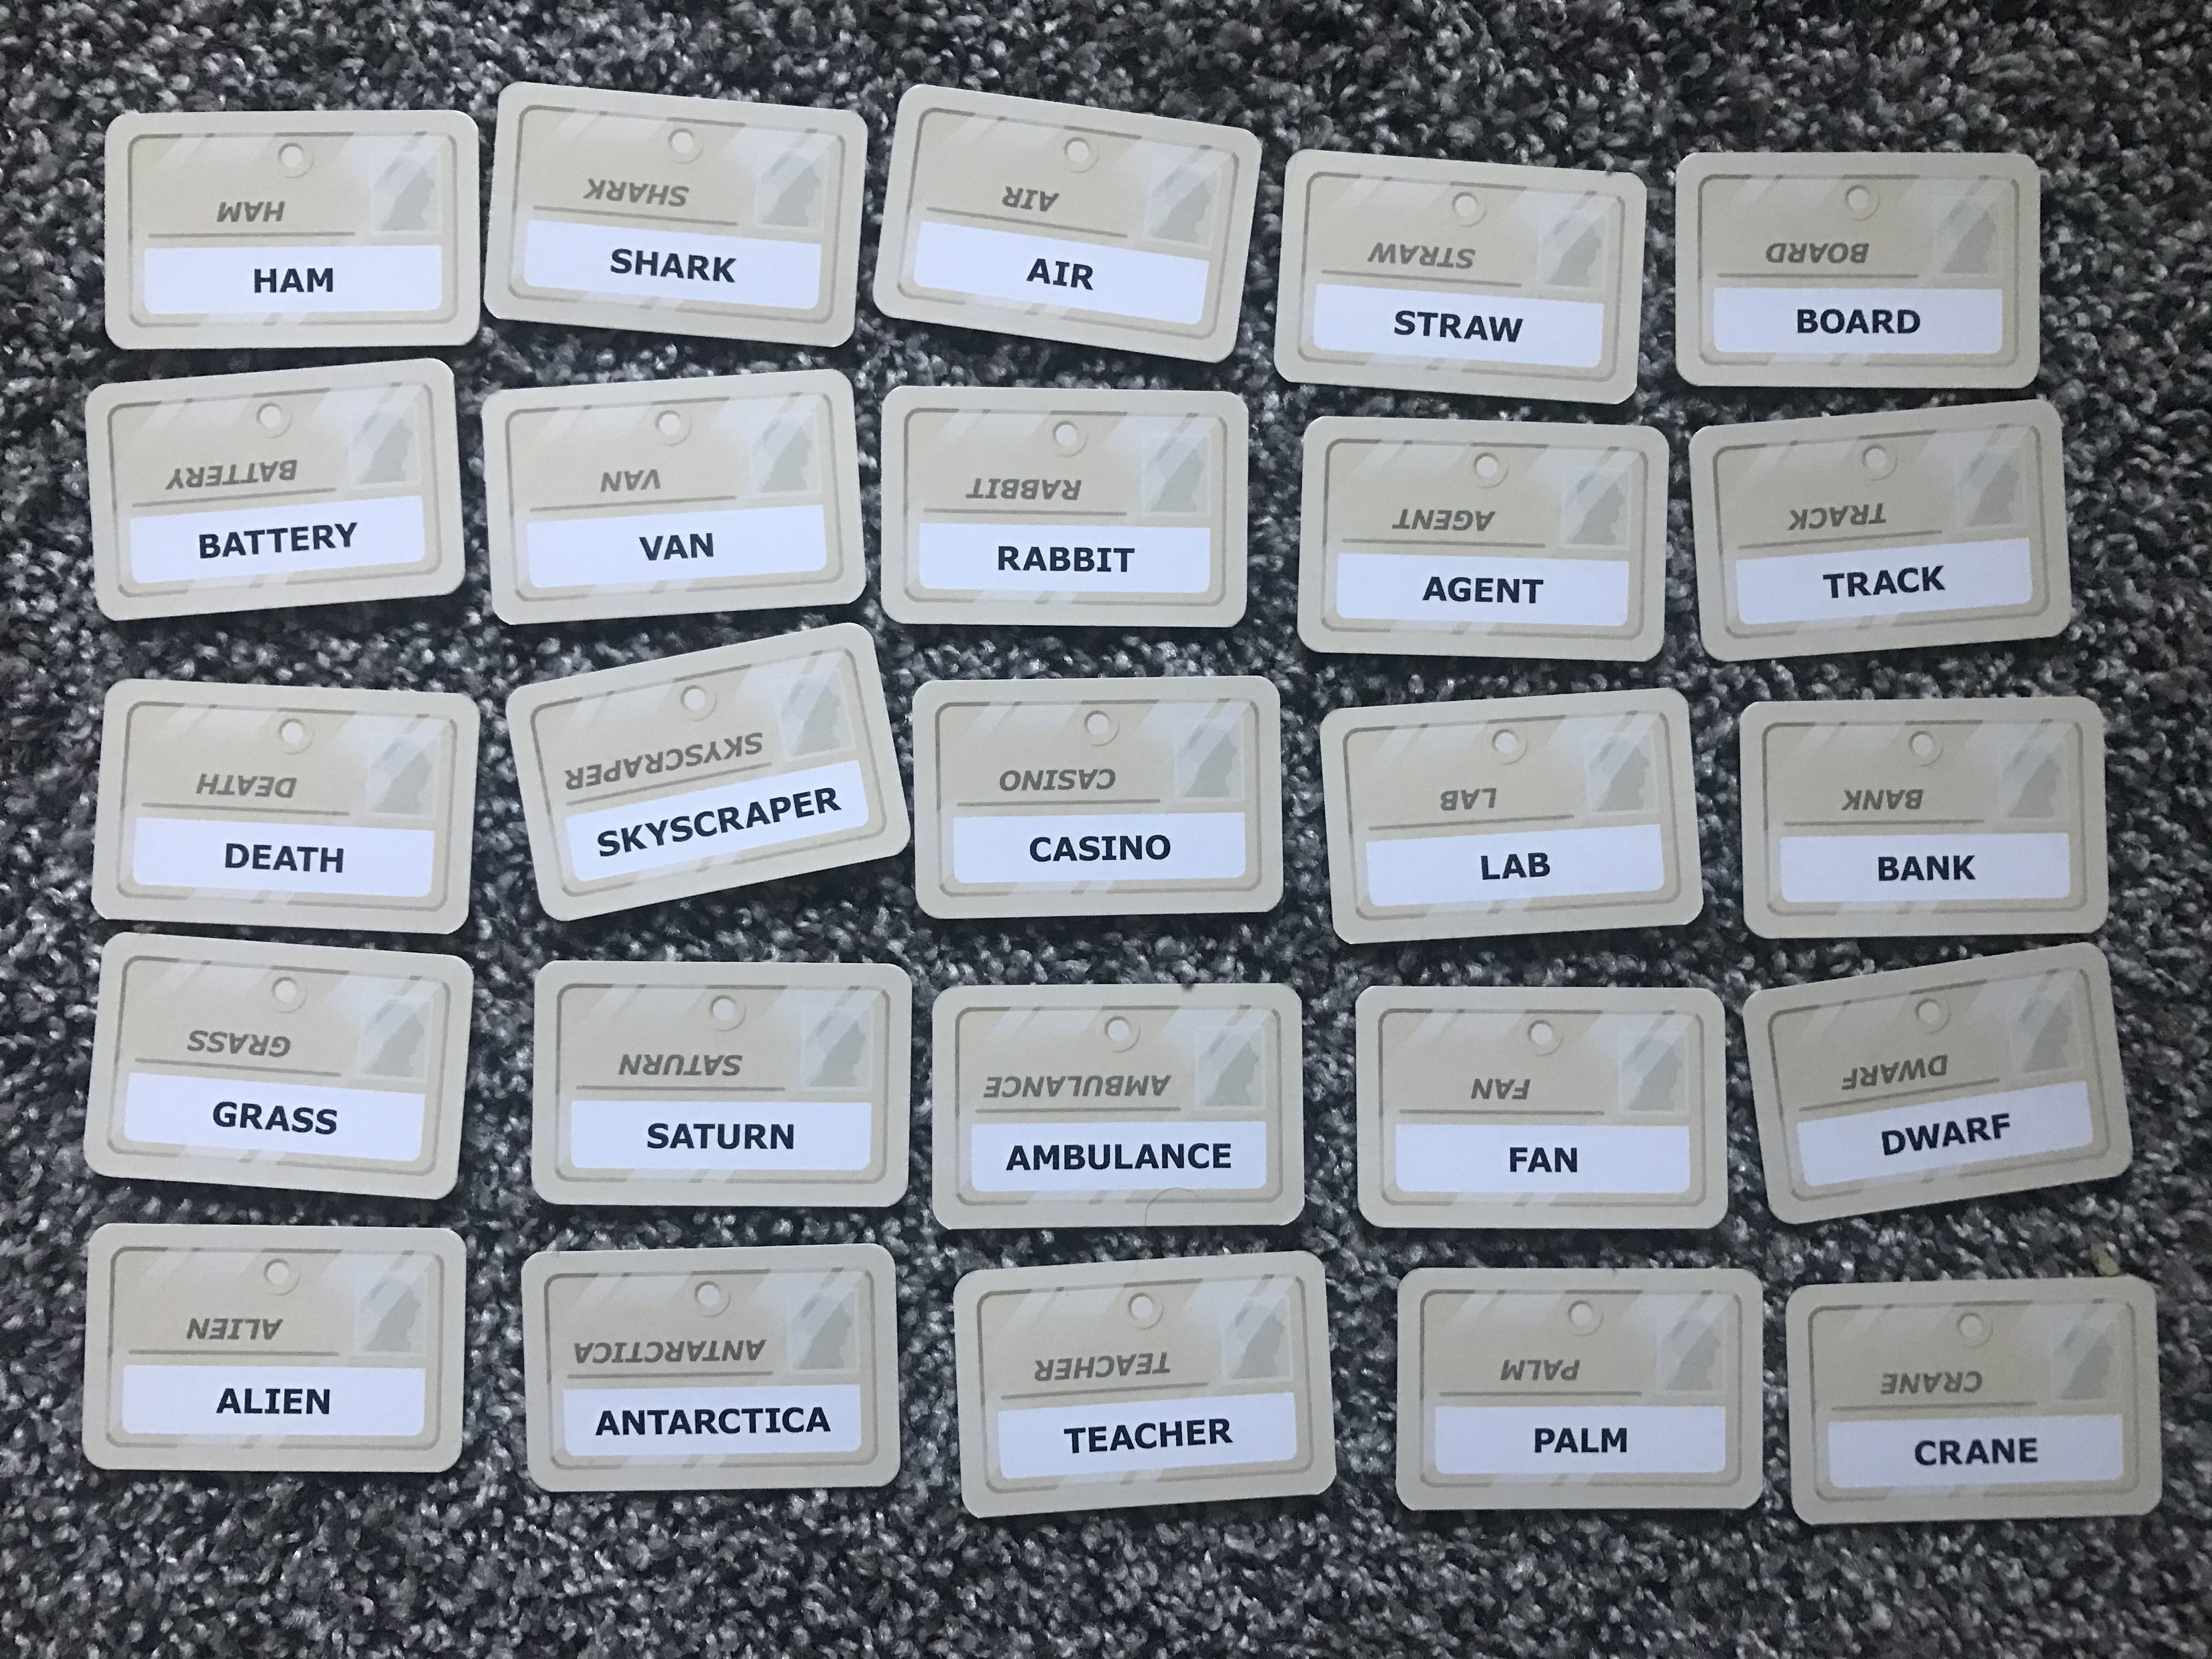A: (1963, 1431, 1991, 1480), (1552, 1420, 1581, 1466), (662, 528, 691, 572), (263, 1100, 293, 1141), (1108, 1417, 1137, 1459), (665, 1403, 695, 1443), (1900, 850, 1928, 892), (669, 1117, 695, 1161), (1843, 305, 1871, 345), (1021, 542, 1049, 582), (742, 798, 772, 835), (1500, 849, 1529, 885), (1026, 254, 1052, 295), (1421, 570, 1446, 612), (1005, 1140, 1031, 1178), (214, 1384, 240, 1422), (1132, 1140, 1160, 1175), (592, 1405, 620, 1439), (279, 261, 305, 298), (1871, 563, 1897, 599), (1940, 1115, 1966, 1152), (221, 526, 246, 565), (805, 1401, 831, 1436), (1463, 312, 1487, 349), (275, 840, 298, 878), (1527, 1143, 1554, 1176), (660, 251, 685, 284), (1054, 835, 1080, 864)
